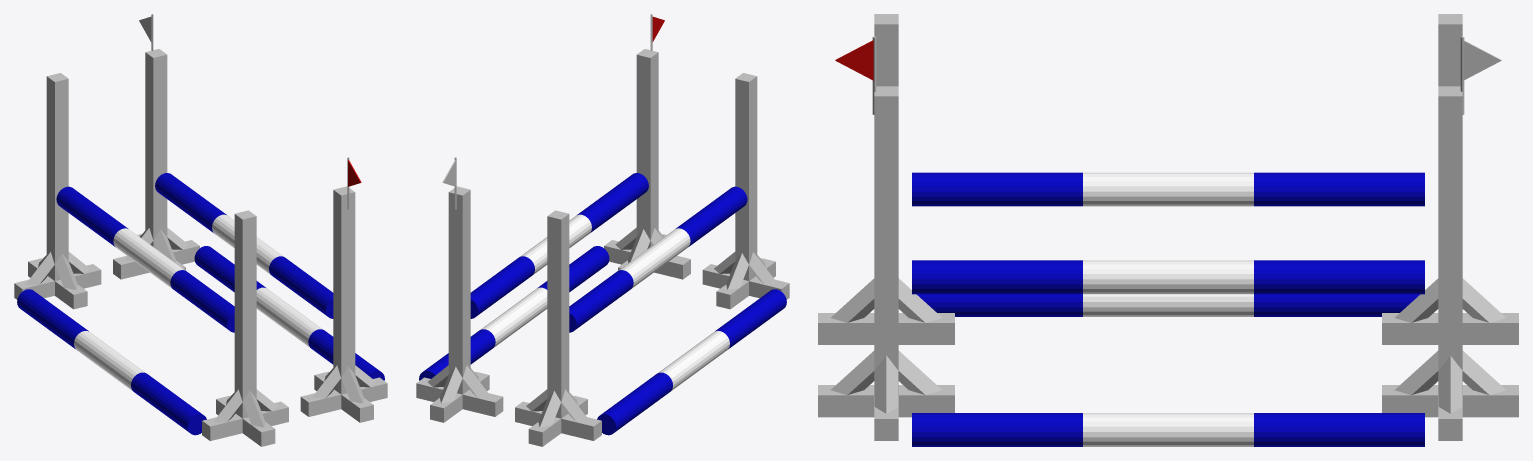
File: practice_oxer.obj
The picture shows the model from 3 angles, left to right: view 1: azimuth 30°, elevation 25°; view 2: azimuth 150°, elevation 25°; view 3: azimuth 270°, elevation 25°; orthographic projection. The views are drawn at different scales.
Visible parts, largest first — view 1: pole_left_1.001_Cylinder.033, pole_left_1_Cylinder, pole_right_1.001_Cylinder.040, pole_right_1_Cylinder.001, groundbar2-1_Cylinder.022, bar1_Cylinder.007, bar1.001_Cylinder.042, bar3.001_Cylinder.041, groundbar2-3_Cylinder.021, bar2.001_Cylinder.043, bar3_Cylinder.008, groundbar2-2_Cylinder.018 (+17 smaller); view 2: pole_right_1.001_Cylinder.040, pole_right_1_Cylinder.001, pole_left_1.001_Cylinder.033, pole_left_1_Cylinder, groundbar2-3_Cylinder.021, bar3_Cylinder.008, bar3.001_Cylinder.041, bar1.001_Cylinder.042, groundbar2-1_Cylinder.022, bar2.001_Cylinder.043, bar1_Cylinder.007, groundbar2-2_Cylinder.018 (+17 smaller); view 3: pole_right_1_Cylinder.001, pole_left_1_Cylinder, bar2.001_Cylinder.043, bar1.001_Cylinder.042, bar3.001_Cylinder.041, bar3_Cylinder.008, bar1_Cylinder.007, bar2_Cylinder.002, groundbar1-3_Cylinder.020, groundbar1-1_Cylinder.019, groundbar1-2_Cylinder.017, groundbar2-2_Cylinder.018 (+22 smaller).
Part boxes in pixels (bbox=[...]): pole_left_1.001_Cylinder.033: bbox=[234, 210, 256, 418]; pole_left_1_Cylinder: bbox=[333, 186, 355, 394]; pole_right_1.001_Cylinder.040: bbox=[46, 73, 68, 280]; pole_right_1_Cylinder.001: bbox=[145, 49, 167, 248]; groundbar2-1_Cylinder.022: bbox=[131, 372, 206, 435]; bar1_Cylinder.007: bbox=[269, 256, 333, 318]; bar1.001_Cylinder.042: bbox=[170, 270, 234, 332]; bar3.001_Cylinder.041: bbox=[56, 186, 128, 246]; groundbar2-3_Cylinder.021: bbox=[17, 289, 88, 349]; bar2.001_Cylinder.043: bbox=[113, 228, 185, 288]; bar3_Cylinder.008: bbox=[155, 173, 226, 232]; groundbar2-2_Cylinder.018: bbox=[74, 331, 145, 390]; pole_right_1.001_Cylinder.040: bbox=[547, 210, 569, 418]; pole_right_1_Cylinder.001: bbox=[448, 186, 470, 394]; pole_left_1.001_Cylinder.033: bbox=[735, 73, 757, 280]; pole_left_1_Cylinder: bbox=[636, 49, 658, 248]; groundbar2-3_Cylinder.021: bbox=[597, 372, 672, 435]; bar3_Cylinder.008: bbox=[470, 256, 534, 318]; bar3.001_Cylinder.041: bbox=[569, 270, 633, 332]; bar1.001_Cylinder.042: bbox=[675, 186, 747, 246]; groundbar2-1_Cylinder.022: bbox=[715, 289, 786, 349]; bar2.001_Cylinder.043: bbox=[618, 228, 690, 288]; bar1_Cylinder.007: bbox=[577, 173, 648, 232]; groundbar2-2_Cylinder.018: bbox=[658, 331, 729, 390]; pole_right_1_Cylinder.001: bbox=[1438, 86, 1462, 394]; pole_left_1_Cylinder: bbox=[874, 86, 898, 394]; bar2.001_Cylinder.043: bbox=[1083, 172, 1253, 206]; bar1.001_Cylinder.042: bbox=[912, 172, 1082, 206]; bar3.001_Cylinder.041: bbox=[1254, 172, 1424, 206]; bar3_Cylinder.008: bbox=[1254, 260, 1424, 294]; bar1_Cylinder.007: bbox=[912, 260, 1082, 294]; bar2_Cylinder.002: bbox=[1083, 260, 1253, 294]; groundbar1-3_Cylinder.020: bbox=[1254, 413, 1424, 446]; groundbar1-1_Cylinder.019: bbox=[912, 413, 1082, 446]; groundbar1-2_Cylinder.017: bbox=[1083, 413, 1253, 446]; groundbar2-2_Cylinder.018: bbox=[1083, 294, 1253, 316].
Bounding box in the file's own units: 200 × 245 × 410.
